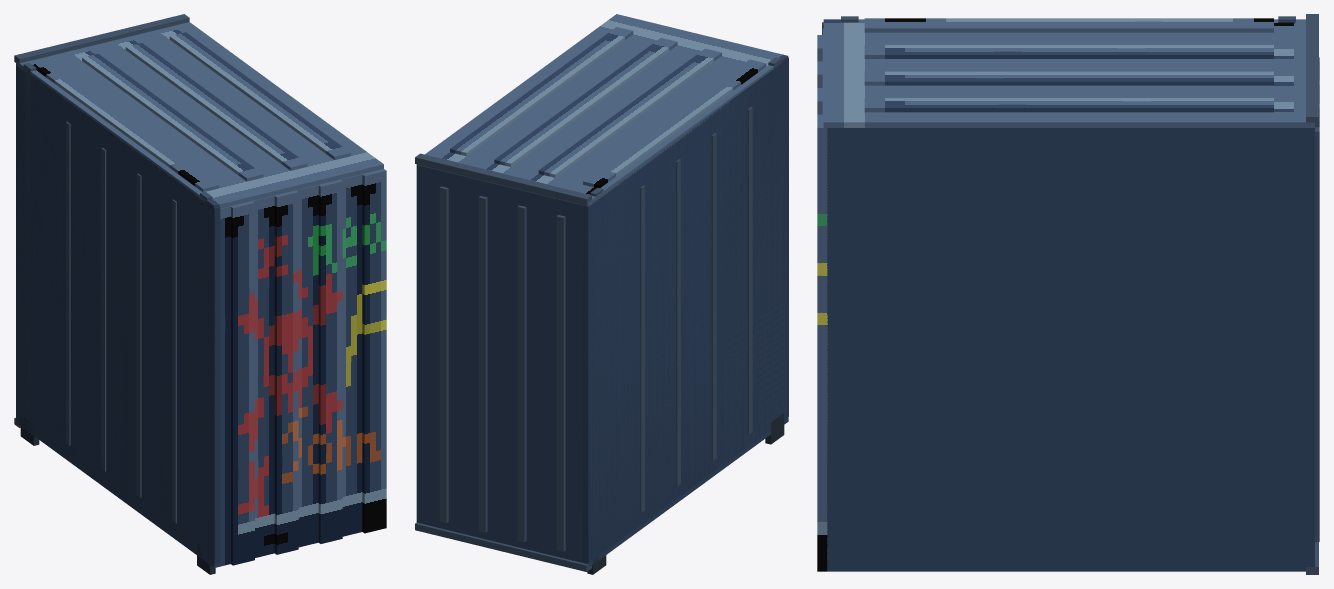
The model's file is CMU3DFreightAU14ContainerBlueGraffitiLeft.glb.
The picture shows the model from 3 angles, left to right: view 1: azimuth 30°, elevation 25°; view 2: azimuth 150°, elevation 25°; view 3: azimuth 270°, elevation 25°; orthographic projection. The views are drawn at different scales.
Visible parts, largest first — view 1: closed cargo shell, source-painted corrugated roof, outer end wall, painted corrugation 8, painted corrugation 6, painted corrugation 4, painted corrugation 2, painted corrugation 7, painted corrugation 5, painted corrugation 3, end wall rib (×4), painted corrugation 1 (+6 smaller); view 2: closed cargo shell, outer end wall, source-painted corrugated roof, rear wall corrugation (×4), end wall rib (×4), rear horizontal frame (×2), source-painted roof ridge 2, source-painted roof ridge 3, source-painted roof ridge 1, source-painted roof ridge 4; view 3: closed cargo shell, source-painted corrugated roof, source-painted roof ridge 1, source-painted roof ridge 3, source-painted roof ridge 4, source-painted roof ridge 2, painted corrugation 8, rear wall corrugation, rear horizontal frame.
Boxes of the visible parts, x1,y1,x2,y2 form: closed cargo shell: [16, 66, 212, 565]; source-painted corrugated roof: [16, 22, 383, 209]; outer end wall: [16, 64, 220, 563]; painted corrugation 8: [362, 169, 386, 533]; painted corrugation 6: [318, 179, 342, 543]; painted corrugation 4: [274, 190, 298, 554]; painted corrugation 2: [231, 201, 254, 565]; painted corrugation 7: [340, 174, 362, 536]; painted corrugation 5: [296, 185, 318, 547]; painted corrugation 3: [253, 195, 274, 557]; end wall rib (×4): [66, 121, 176, 523]; painted corrugation 1: [212, 206, 230, 567]; closed cargo shell: [416, 78, 786, 567]; outer end wall: [582, 57, 788, 563]; source-painted corrugated roof: [416, 14, 788, 206]; rear wall corrugation (×4): [439, 186, 565, 551]; end wall rib (×4): [640, 106, 752, 512]; rear horizontal frame (×2): [415, 153, 591, 571]; source-painted roof ridge 2: [538, 48, 721, 177]; source-painted roof ridge 3: [494, 38, 677, 166]; source-painted roof ridge 1: [583, 59, 766, 187]; source-painted roof ridge 4: [450, 27, 633, 156]; closed cargo shell: [827, 128, 1314, 571]; source-painted corrugated roof: [823, 19, 1314, 127]; source-painted roof ridge 1: [864, 18, 1273, 32]; source-painted roof ridge 3: [864, 71, 1273, 85]; source-painted roof ridge 4: [864, 98, 1273, 112]; source-painted roof ridge 2: [864, 45, 1273, 58]; painted corrugation 8: [817, 114, 827, 571]; rear wall corrugation: [1315, 127, 1319, 541]; rear horizontal frame: [1306, 14, 1318, 124].
Size of the model in its own units: 0.9768 by 2.05 by 2.
15 materials, 11 textured.
